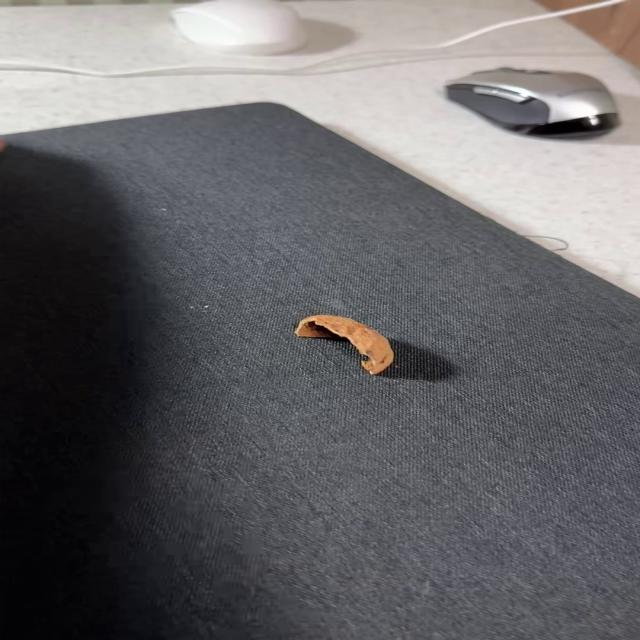nuts-bad0.25: (296, 315, 393, 375)
